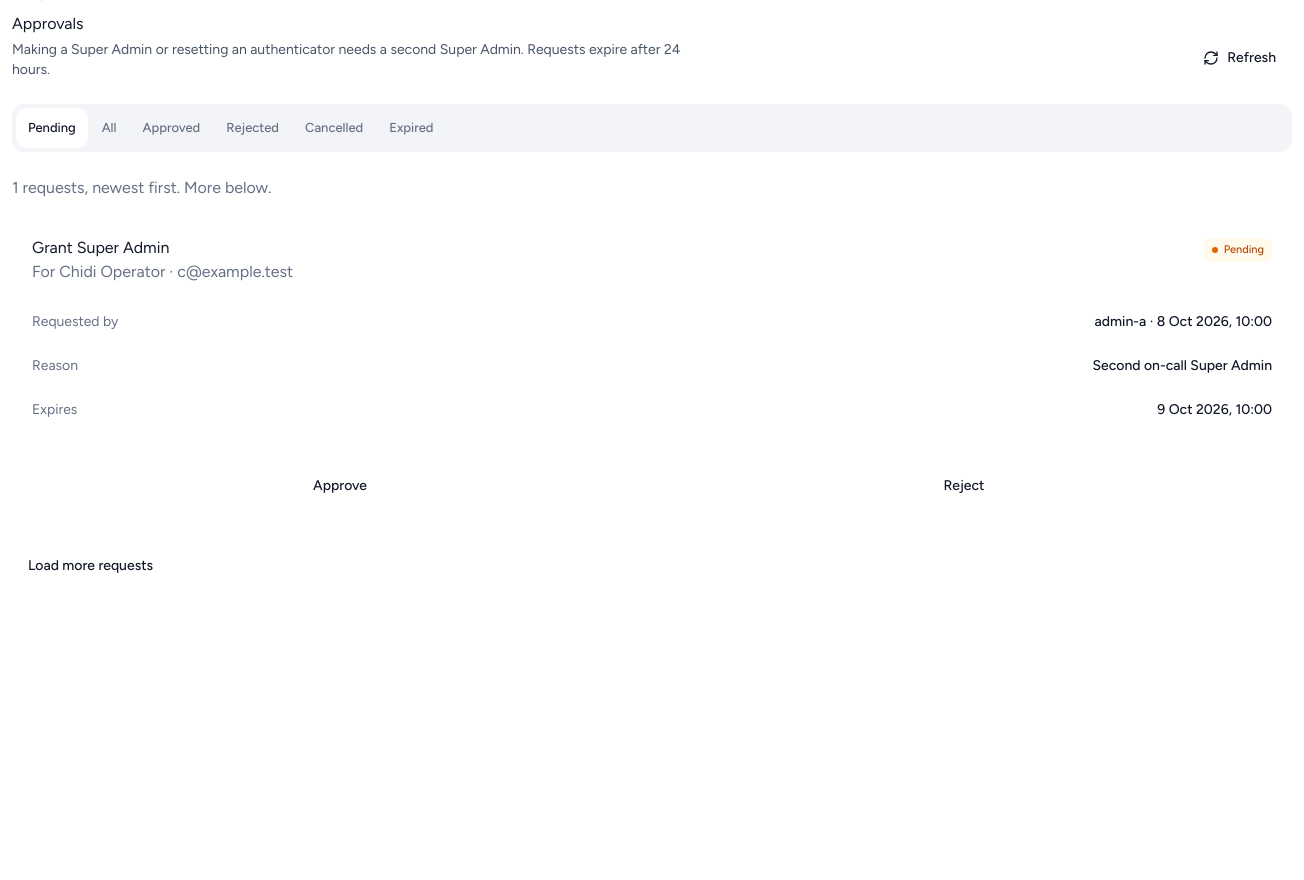
Test case: two-person approvals › pages a refreshed list with its own cursor, never with a page loaded for the list before it
Check: the element that starts with "Grant Super Admin" is shown, box [12, 216, 1292, 528]
Click the button "Load more requests" at x=91, y=566, box [12, 544, 169, 588]
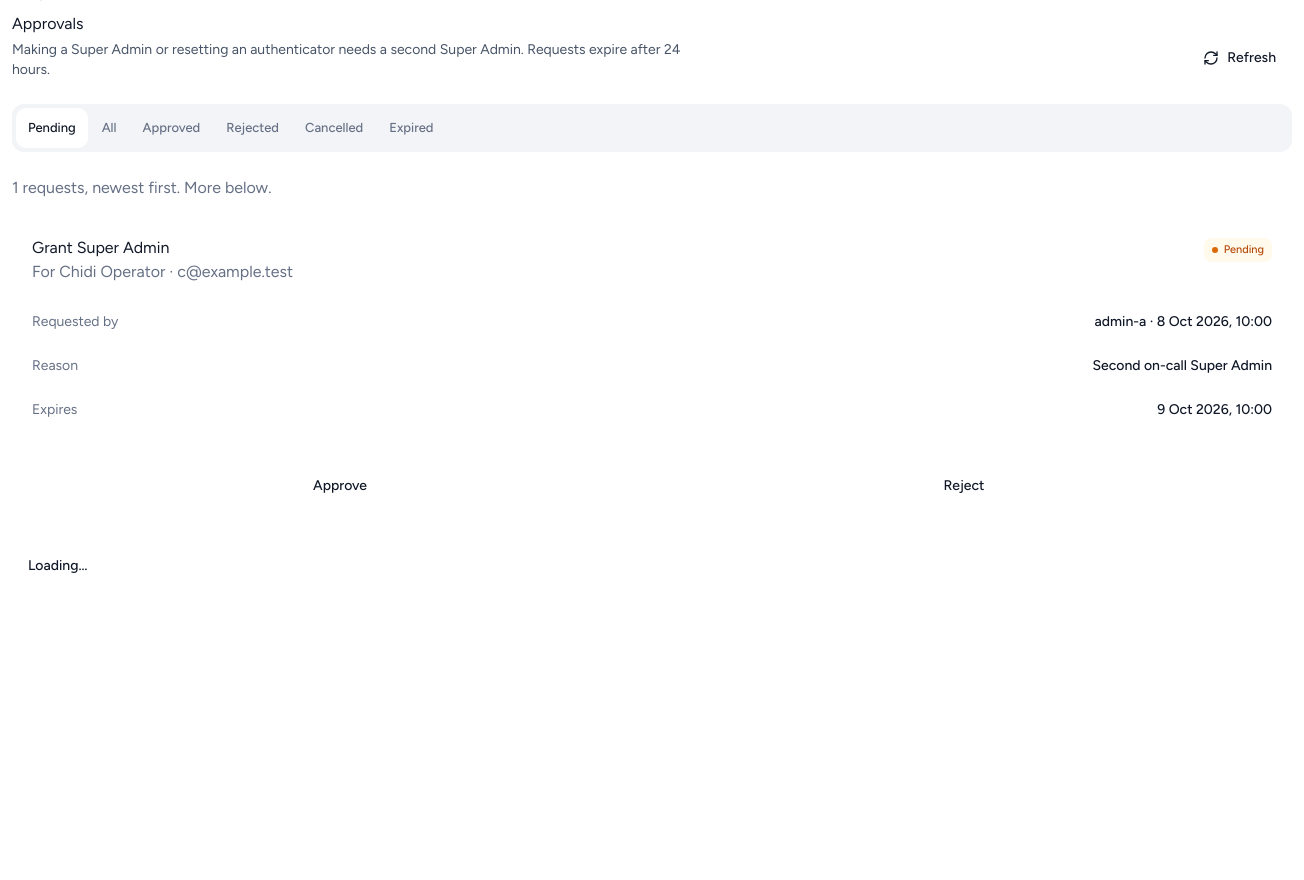
Click the button "Refresh" at x=1240, y=58, box [1187, 36, 1292, 80]
(page scrolled)
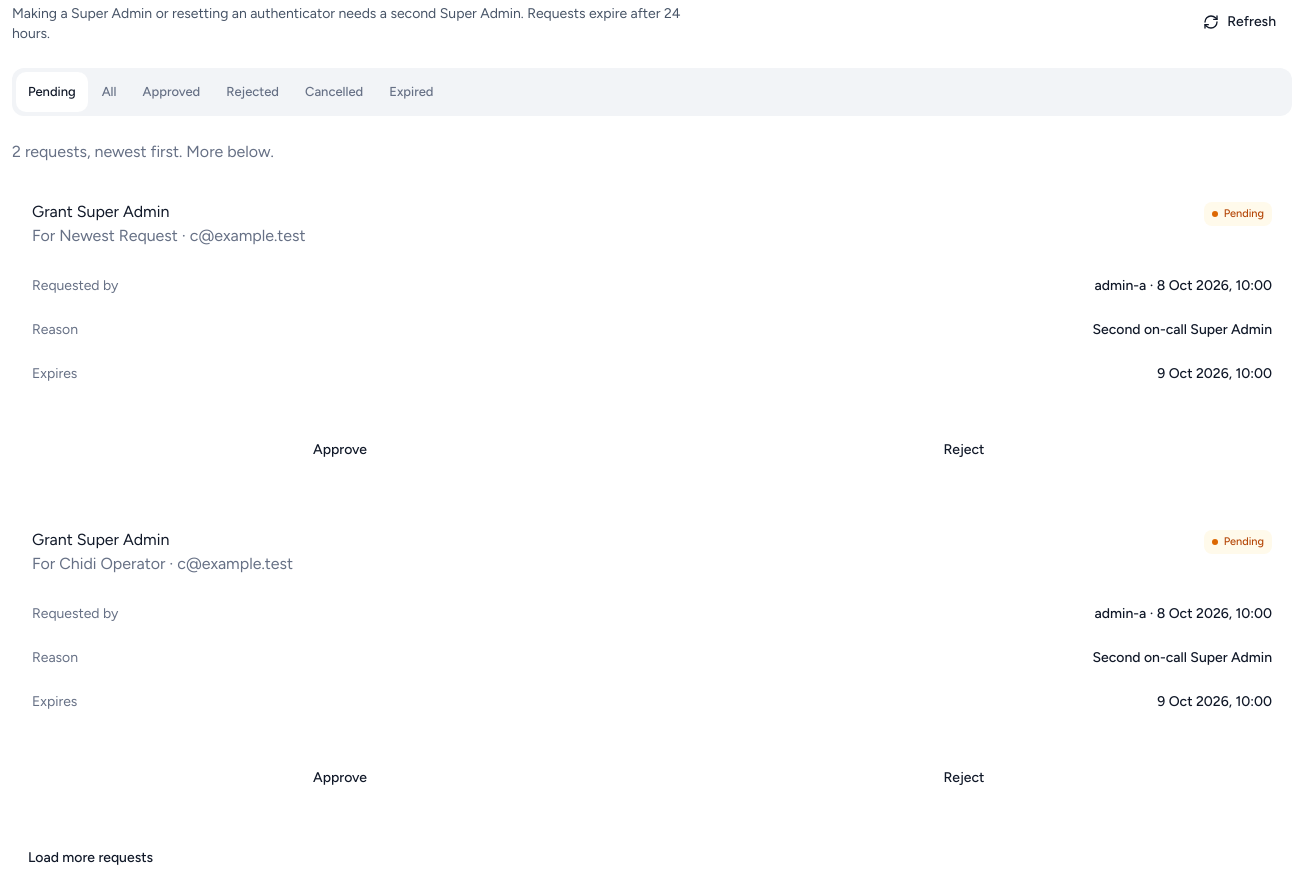
Check: the text "For Dayo Second · c@example.test" is not shown
Check: the text "For Newest Request · c@example.test" is shown, box [32, 224, 306, 248]
Click the button "Load more requests" at x=91, y=858, box [12, 836, 169, 879]
(page scrolled)
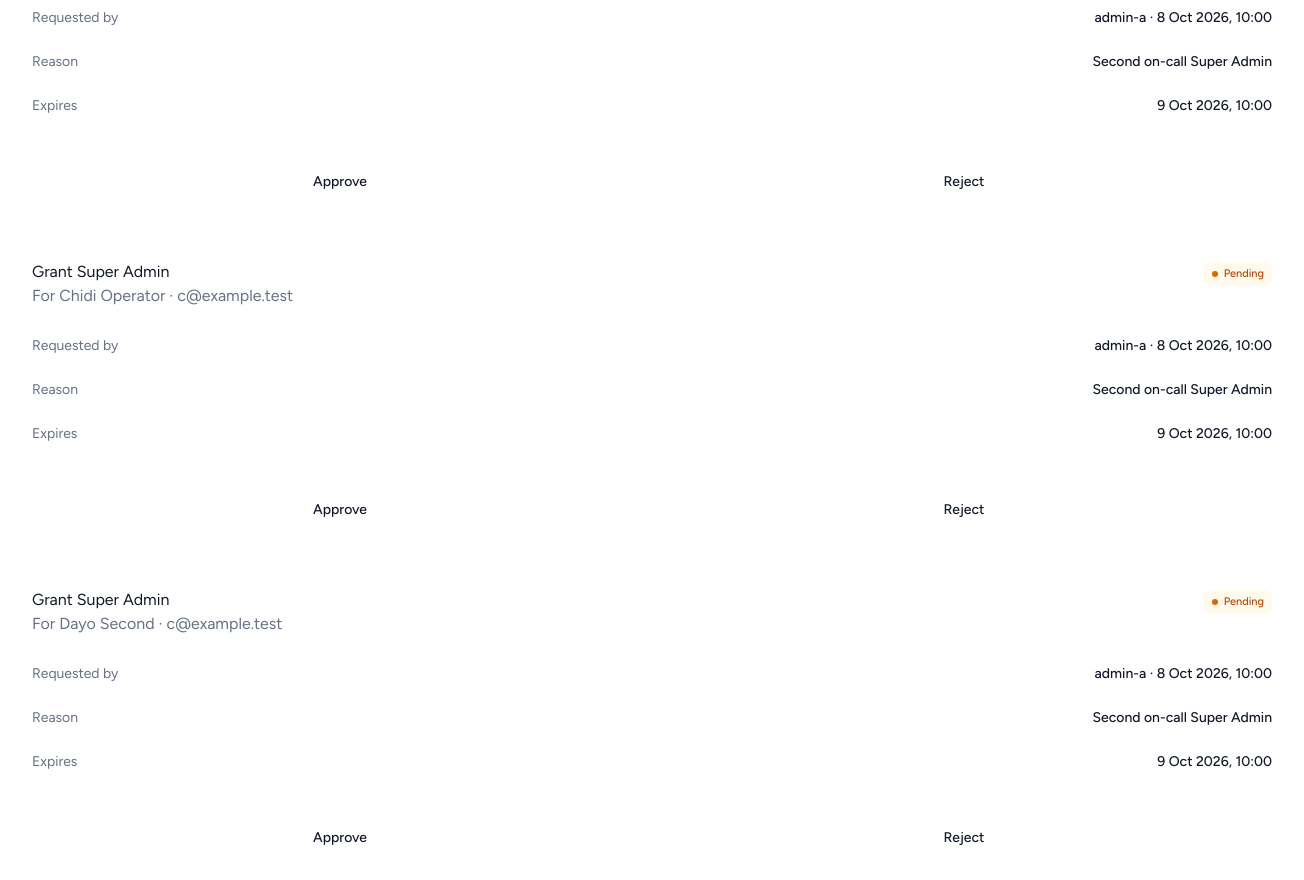
Check: the text "For Dayo Second · c@example.test" is shown, box [32, 612, 282, 636]
